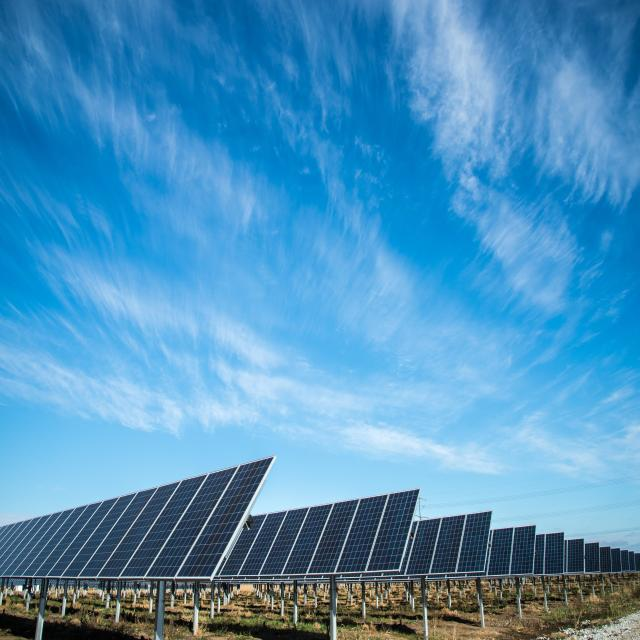clean-solar-panel: (0, 458, 274, 582), (220, 490, 419, 580), (400, 511, 491, 580)
